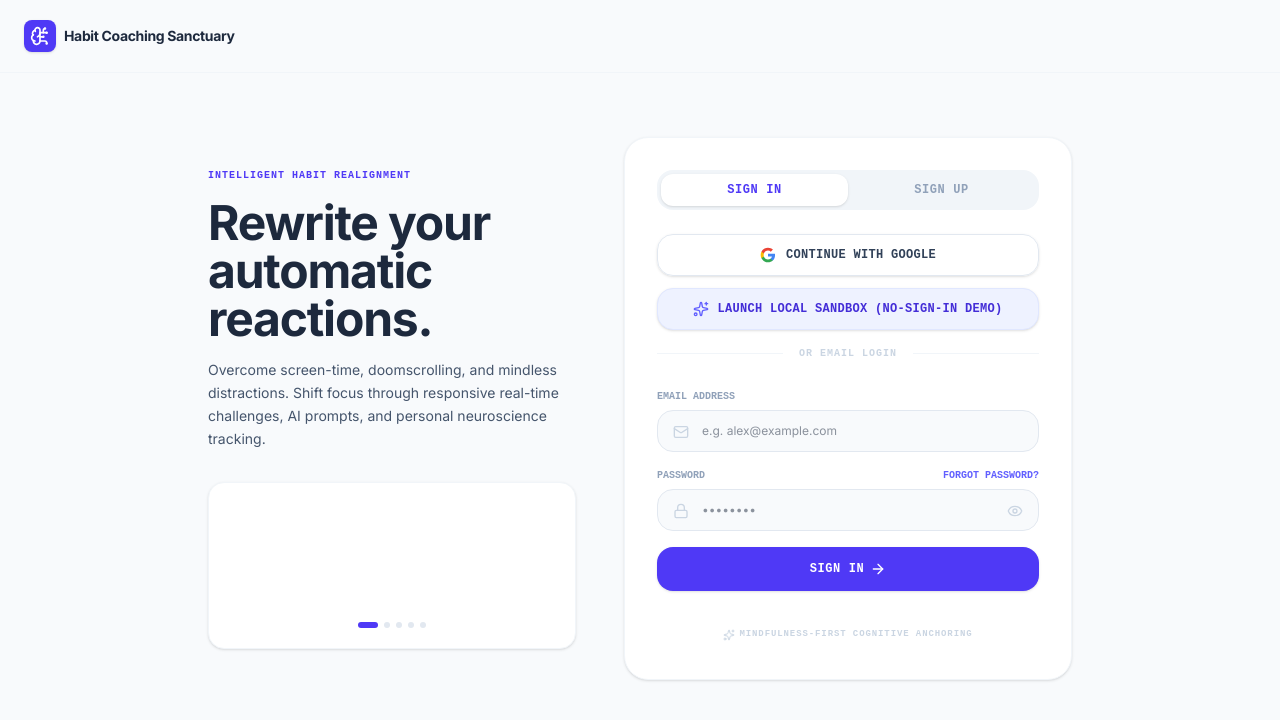
Test: AuthScreen Component Tests › displays validation warning if email address format is invalid on blur
This screenshot has width=1280, height=720.
Step 1. Type "invalid-email" into the field labelled "EMAIL ADDRESS" → (848, 431), box [657,410,1039,452]
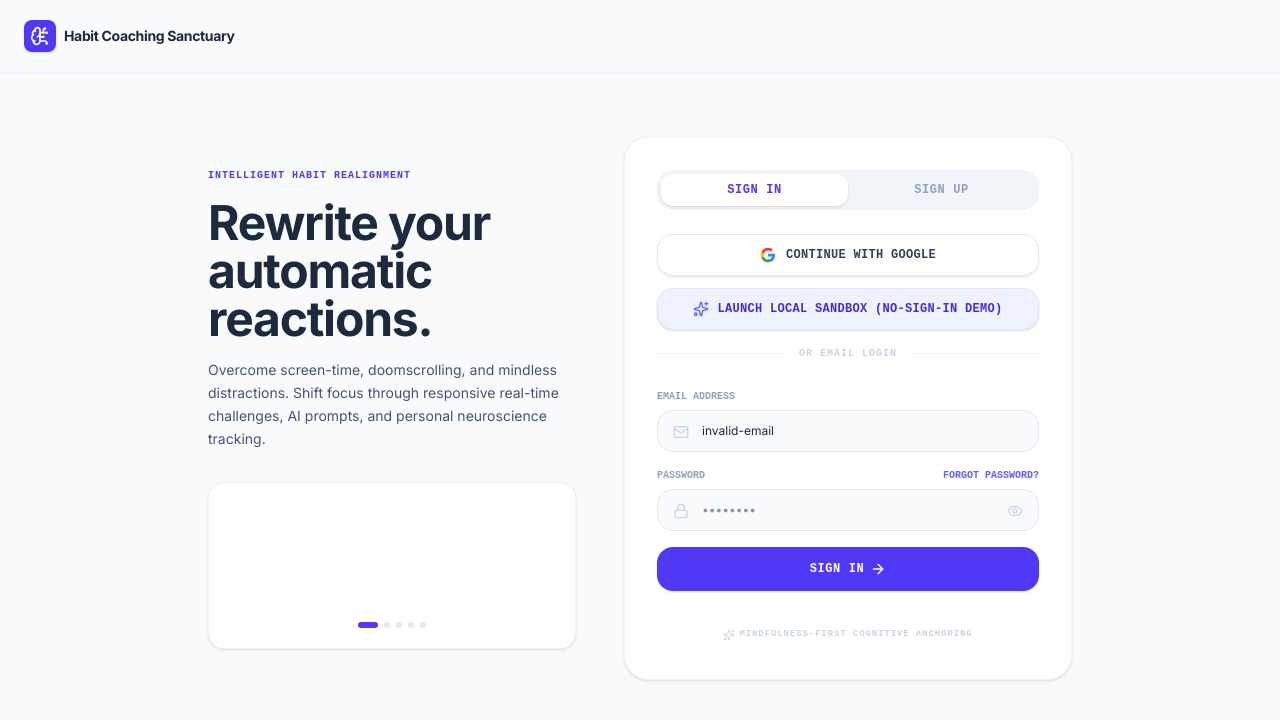
Step 2. Leave the field labelled "EMAIL ADDRESS", box [657,410,1039,452]
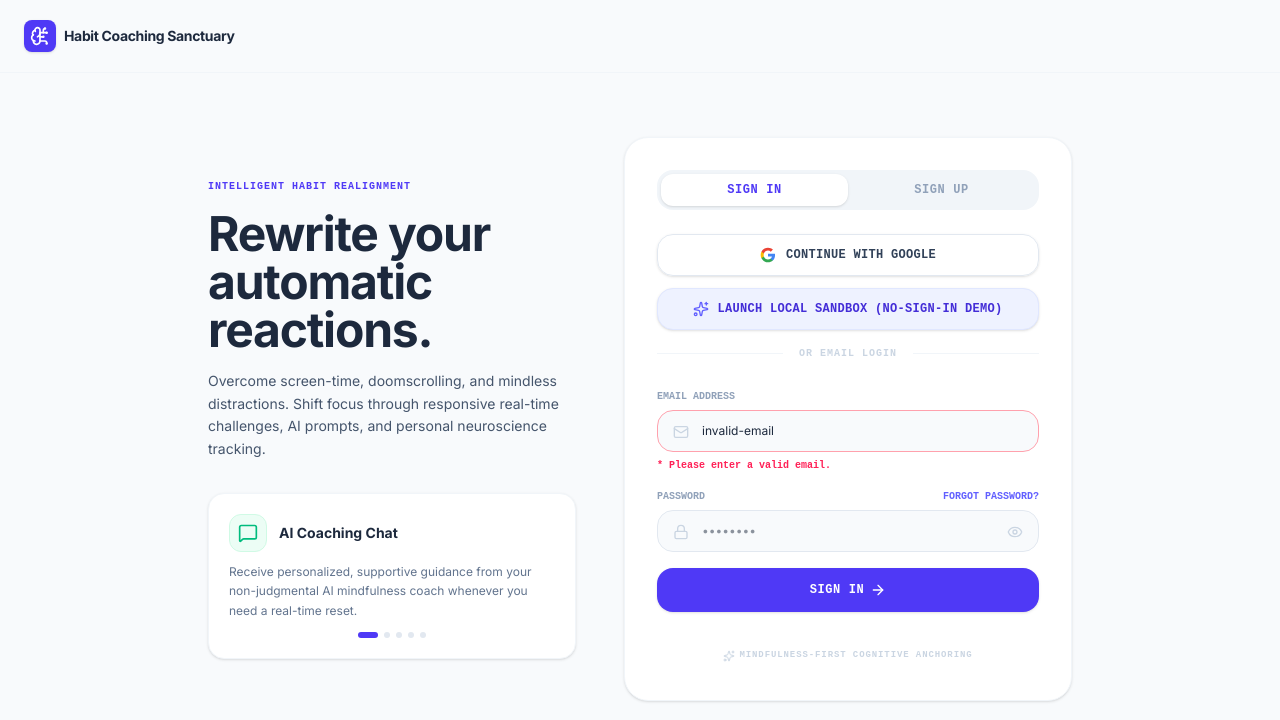
Result: the text "* Please enter a valid email." is shown at [657,460,831,471]
